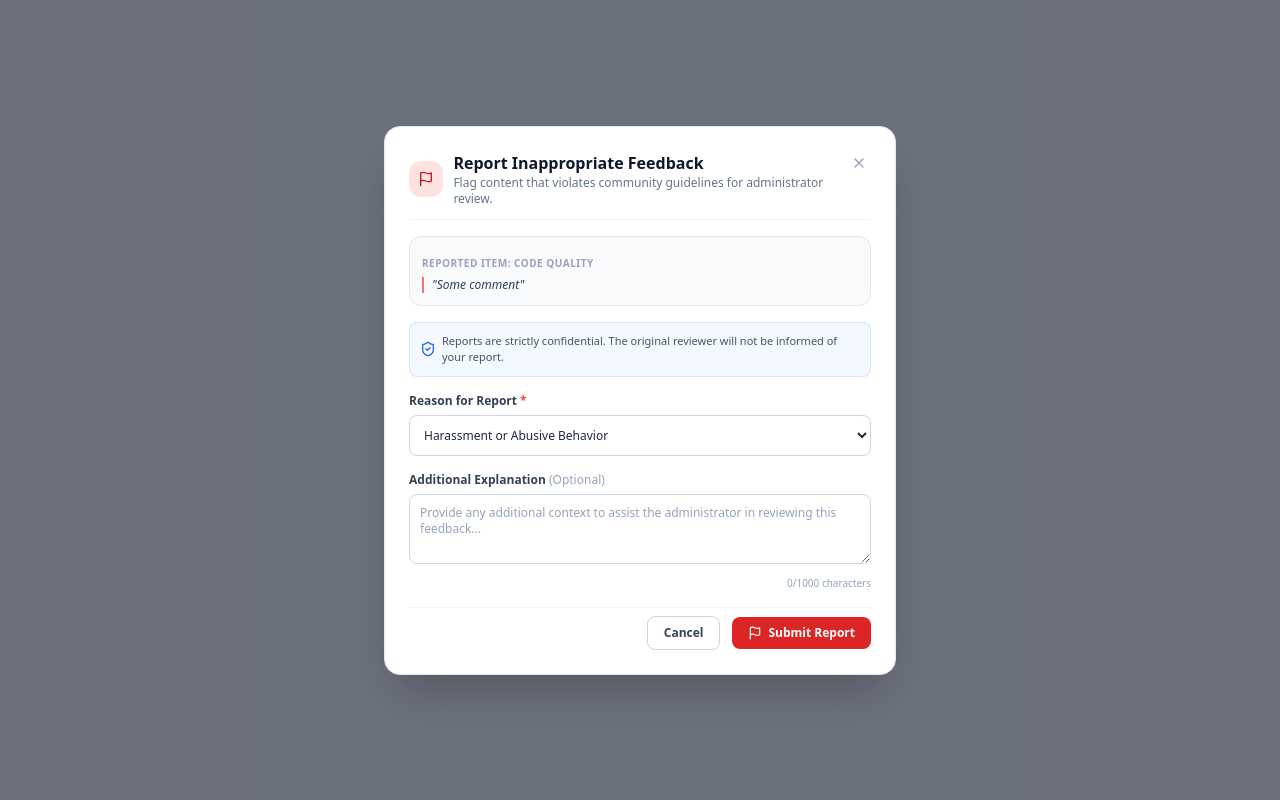
Scenario: Milestone 1: Feedback Flagging & Moderation (Frontend) › 1. ReportFeedbackModal Component › displays error message when reporting fails
This screenshot has width=1280, height=800.
Click the button "Submit Report" at (802, 632), box [732,616,871,648]
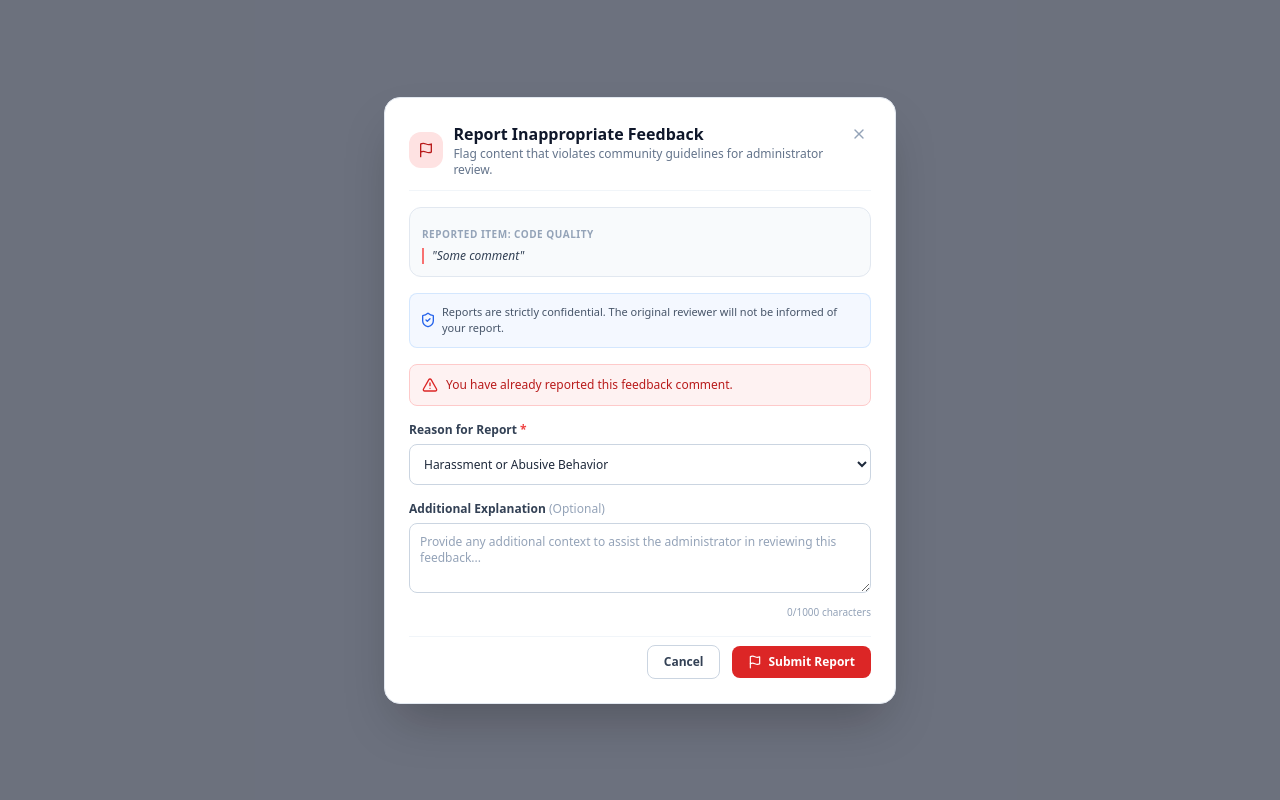
Expected: the text "You have already reported this feedback comment." is shown, [446,376,733,392]
